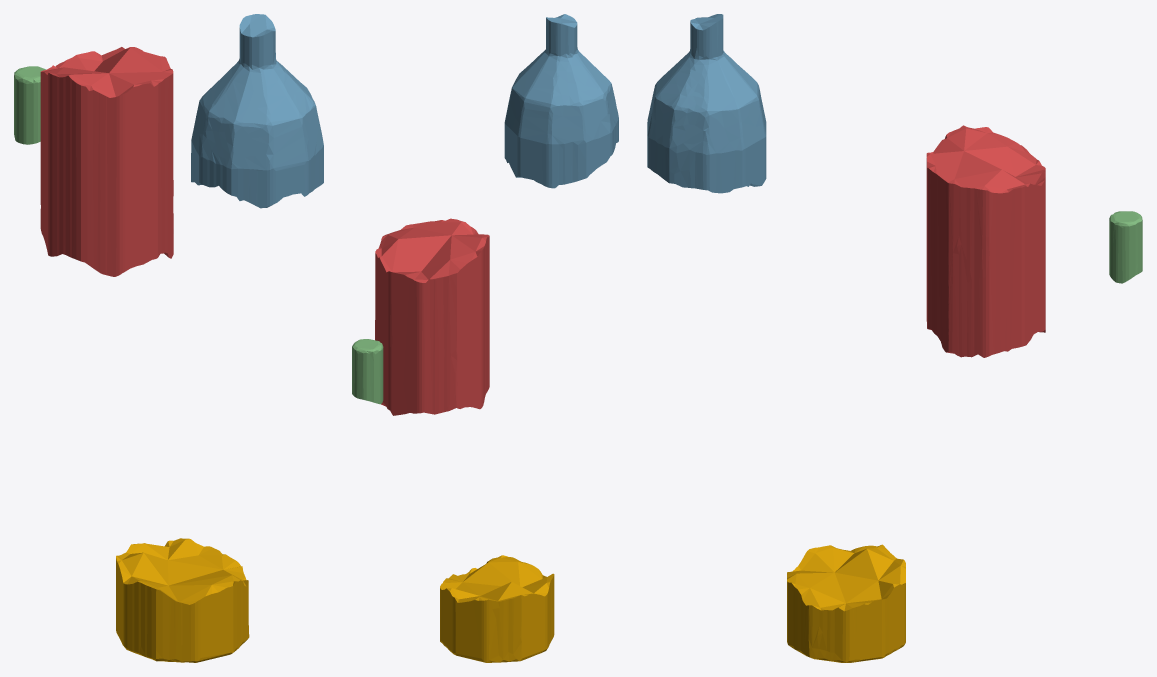
The model's file is mode_3_4pcs_transformed.glb.
3 views of the same model, side by side, from view 1: azimuth 30°, elevation 25°; view 2: azimuth 150°, elevation 25°; view 3: azimuth 270°, elevation 25° (orthographic). The views are drawn at different scales.
Visible parts, largest first — view 1: piece_1.obj, piece_2.obj, piece_0.obj, piece_3.obj; view 2: piece_1.obj, piece_2.obj, piece_0.obj, piece_3.obj; view 3: piece_1.obj, piece_2.obj, piece_0.obj, piece_3.obj.
Boxes of the visible parts, <box> form: piece_1.obj: <box>40,47,173,276</box>; piece_2.obj: <box>191,14,323,208</box>; piece_0.obj: <box>116,538,249,662</box>; piece_3.obj: <box>14,66,46,144</box>; piece_1.obj: <box>375,218,489,415</box>; piece_2.obj: <box>504,14,618,188</box>; piece_0.obj: <box>440,555,554,662</box>; piece_3.obj: <box>352,339,383,404</box>; piece_1.obj: <box>926,125,1045,357</box>; piece_2.obj: <box>647,14,766,193</box>; piece_0.obj: <box>787,544,905,662</box>; piece_3.obj: <box>1109,211,1142,283</box>.
Bounding box in the file's own units: 0.2657 × 1.47 × 1.06.
